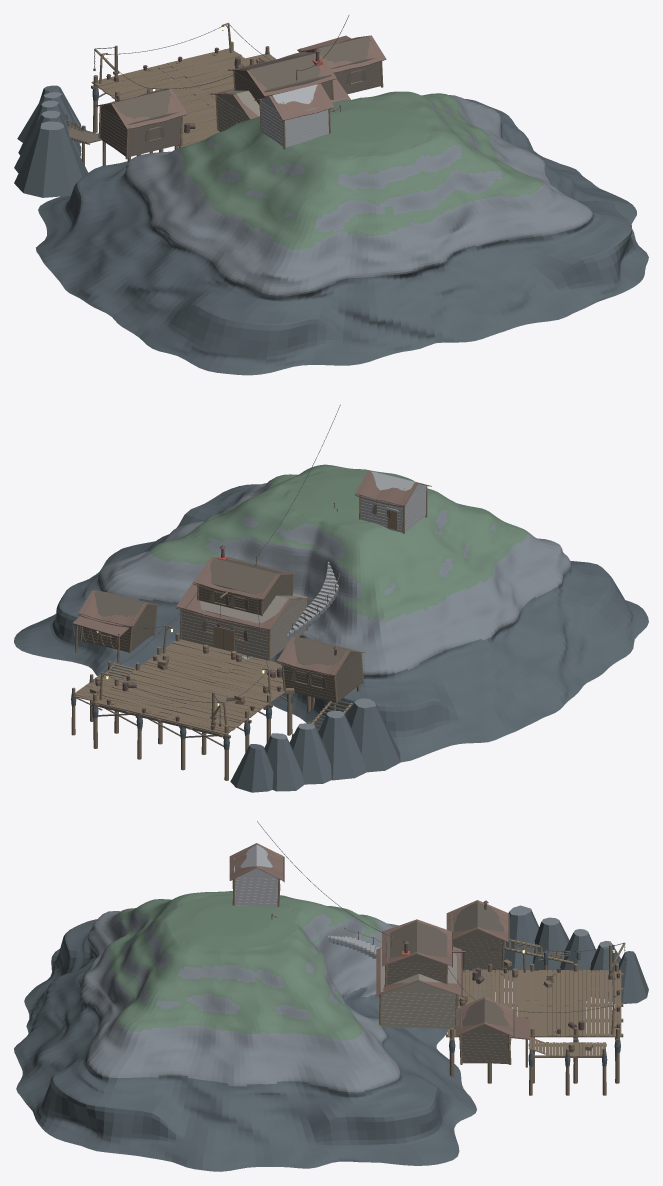
The model's file is wharf_island.glb.
3 views of the same model, one above another, from view 1: azimuth 30°, elevation 25°; view 2: azimuth 150°, elevation 25°; view 3: azimuth 270°, elevation 25° (orthographic). The views are drawn at different scales.
Parts seen in each view (by area): view 1: WharfIslandMesh; view 2: WharfIslandMesh; view 3: WharfIslandMesh.
Boxes of the visible parts, left/top/right/bottom form: WharfIslandMesh: left=14, top=15, right=648, bottom=375; WharfIslandMesh: left=14, top=404, right=648, bottom=792; WharfIslandMesh: left=14, top=821, right=648, bottom=1171.
Bounding box in the file's own units: 58.92 × 26.02 × 65.22.
